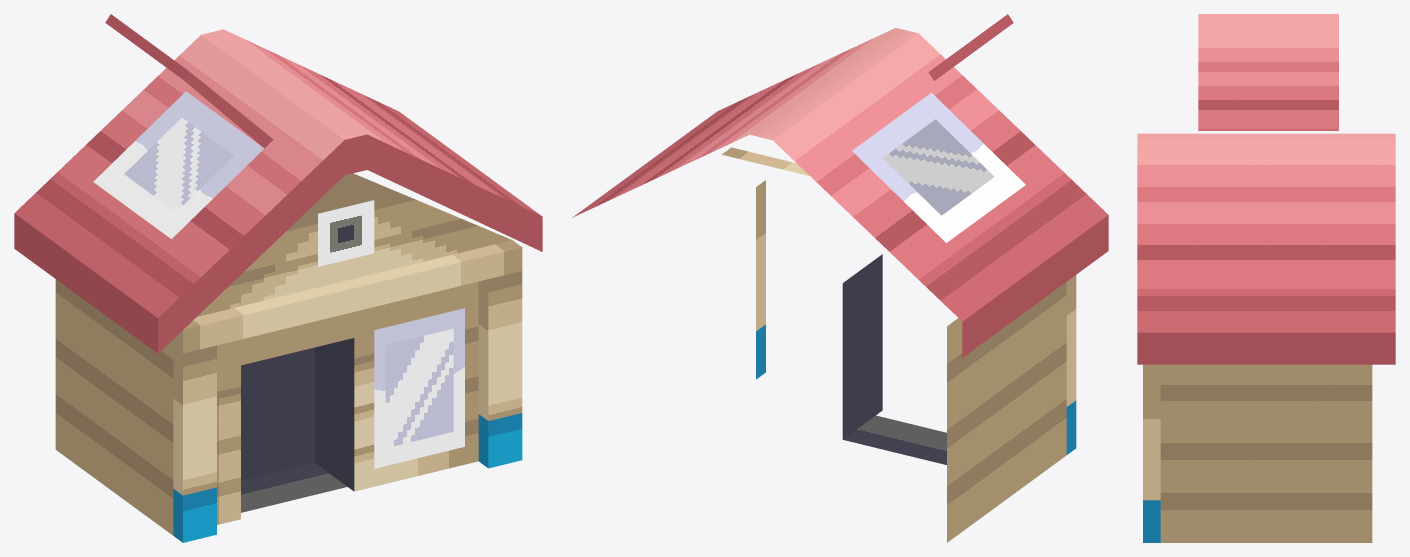
3 views of the same model, side by side, from view 1: azimuth 30°, elevation 25°; view 2: azimuth 150°, elevation 25°; view 3: azimuth 270°, elevation 25° (orthographic). The views are drawn at different scales.
Parts seen in each view (by area): view 1: yo_h02; view 2: yo_h02; view 3: yo_h02.
Part boxes in pixels (x1=…): yo_h02: x1=14, y1=14, x2=542, y2=542; yo_h02: x1=572, y1=14, x2=1108, y2=542; yo_h02: x1=1137, y1=14, x2=1395, y2=542.
Bounding box in the file's own units: 4.25 × 4.65 × 2.75.
Materials: 3 (3 with a texture image).
